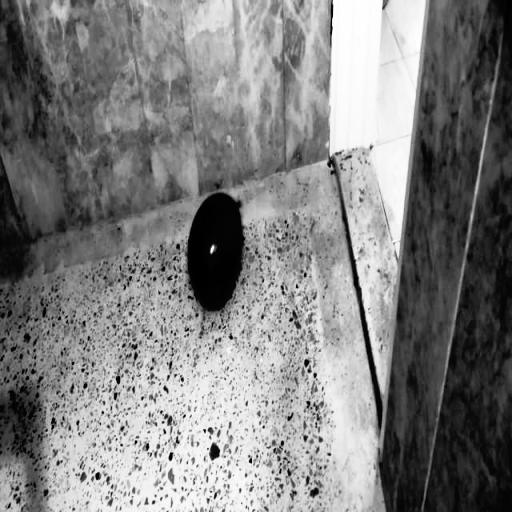balloon: (186, 183, 246, 316)
